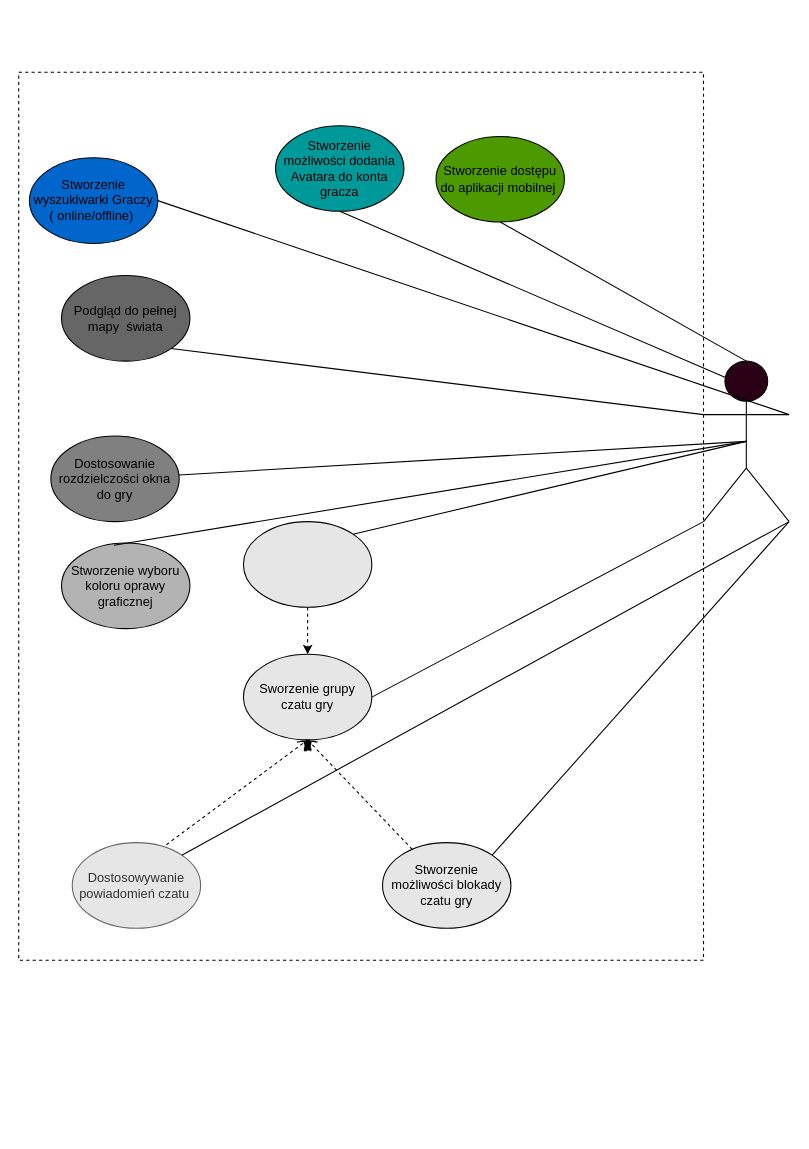
This 809x1149 diagram has some shape labels left out. The shapes that lost their labels are listed below. From the top down, each one's box as (x1, y1, x2, y2) in pixels, then its label:
(702, 360, 789, 522): Actor
(242, 521, 372, 607): Dostęp do czatu gry
